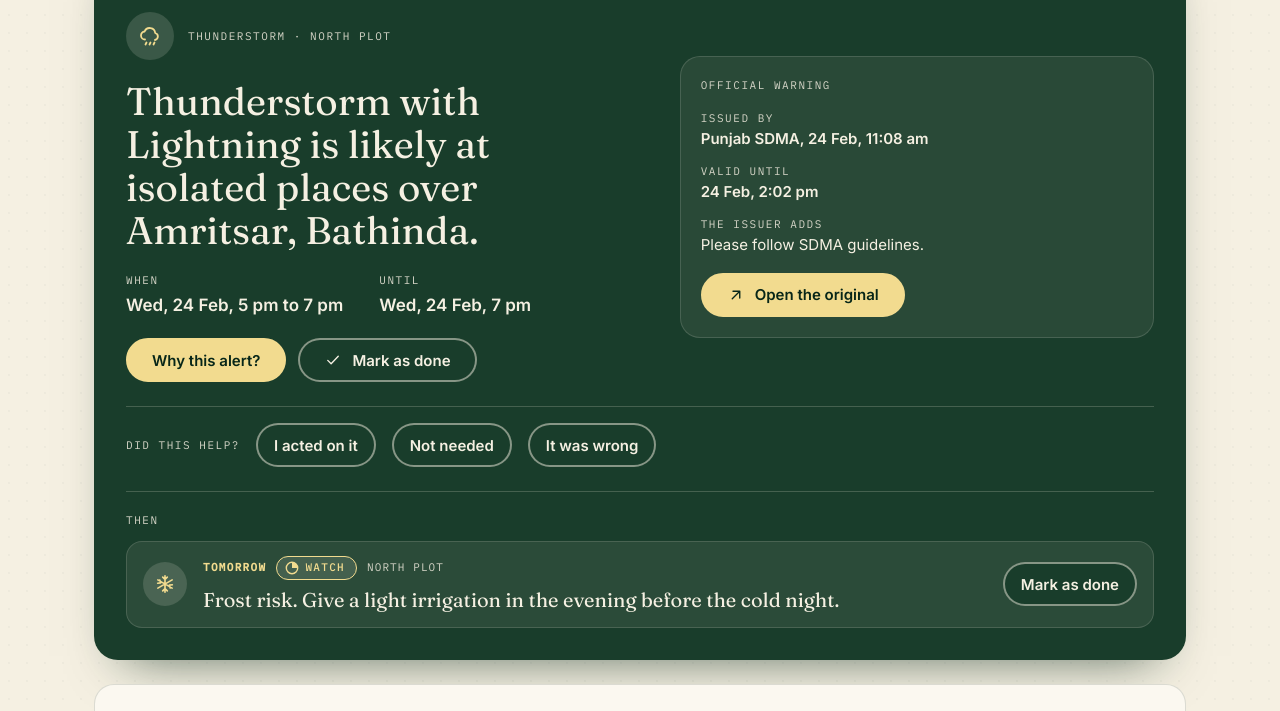
Test: official warnings › a SACHET warning leads over our own, as published: its headline, issuer, validity and a link to the original
The width and height of the screenshot is (1280, 711).
(page scrolled)
Expected: the heading shows "Thunderstorm with Lightning is likely at isolated places over Amritsar, Bathinda.", [126,77,490,254]
Expected: the text "Official warning" is shown, [701,78,831,92]
Click the button "Why this alert?" at (206, 360), box [126,338,286,382]
(page scrolled)
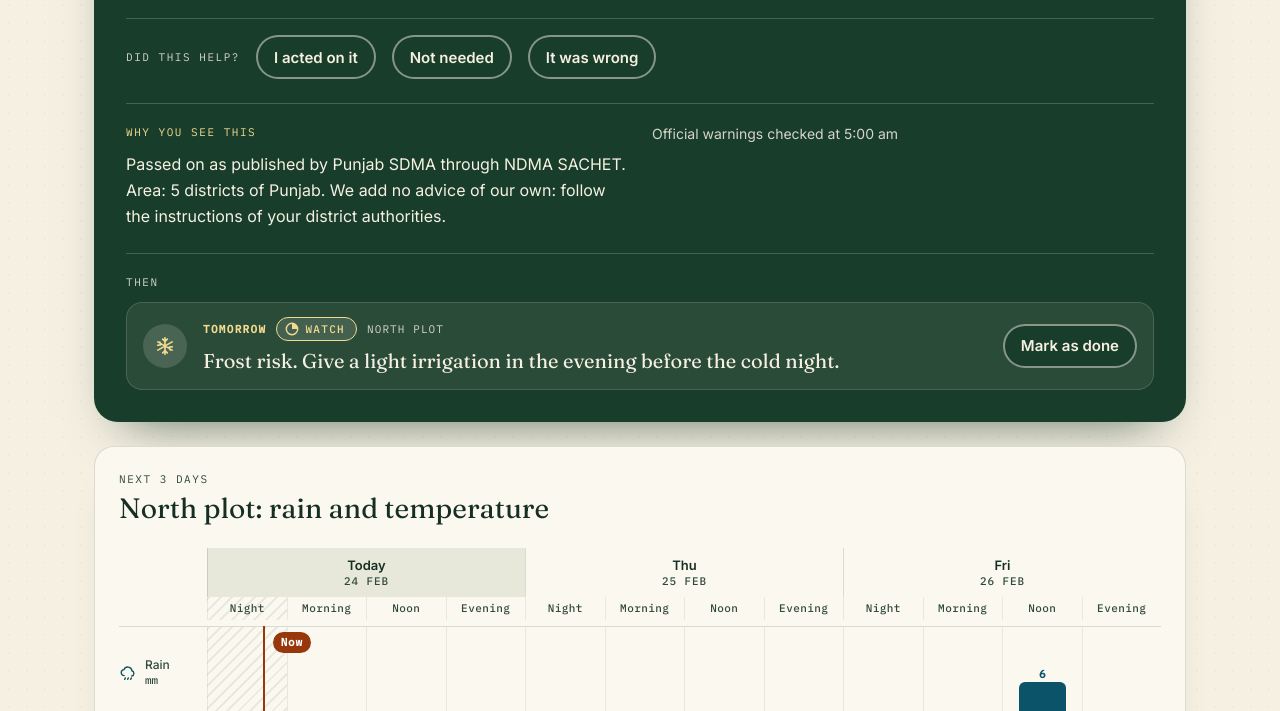
Expected: the text "Frost risk" is shown, [203,348,839,373]
Expected: the text "Passed on as published by Punjab SDMA through NDMA SACHET. Area: 5 districts of Punjab." is shown, [126,154,626,226]
